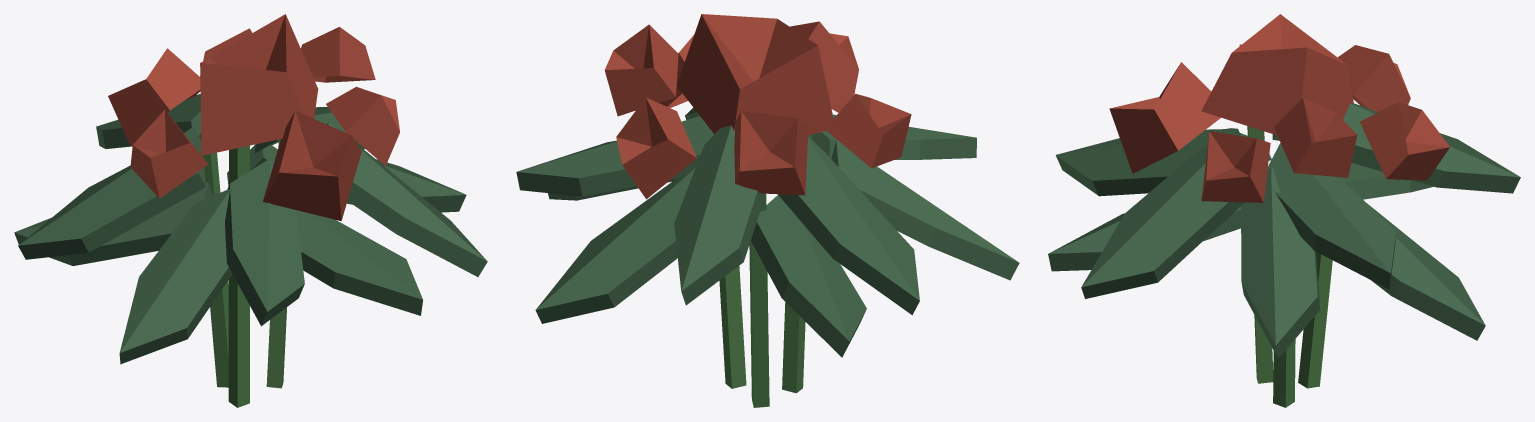
The model's file is SM_Env_Flowers_01.fbx.
3 views of the same model, side by side, from view 1: azimuth 30°, elevation 25°; view 2: azimuth 150°, elevation 25°; view 3: azimuth 270°, elevation 25° (orthographic). The views are drawn at different scales.
Visible parts, largest first — view 1: SM_Env_Flowers_01; view 2: SM_Env_Flowers_01; view 3: SM_Env_Flowers_01.
Part boxes in pixels (box(x1,y1,x2,y2)): SM_Env_Flowers_01: box(14, 14, 487, 407); SM_Env_Flowers_01: box(516, 14, 1019, 407); SM_Env_Flowers_01: box(1048, 14, 1520, 407).
Bounding box in the file's own units: 0.00659 × 0.00558 × 0.00652.
1 material, 1 textured.
